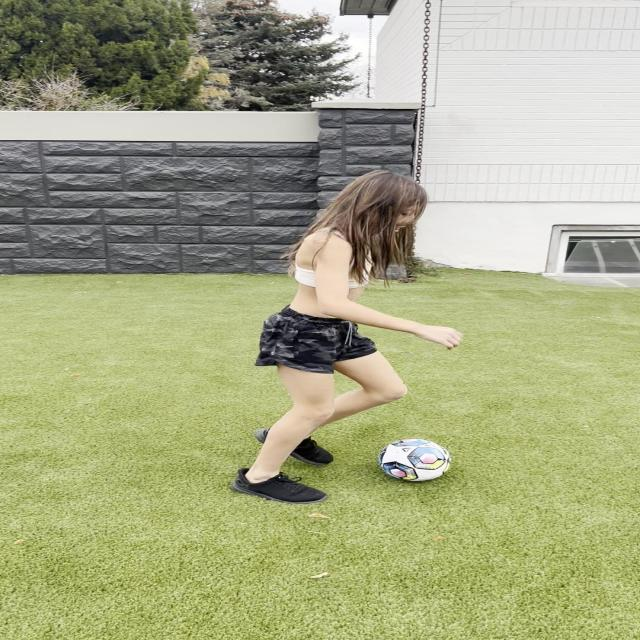Soccer Ball: (379, 438, 451, 481)
